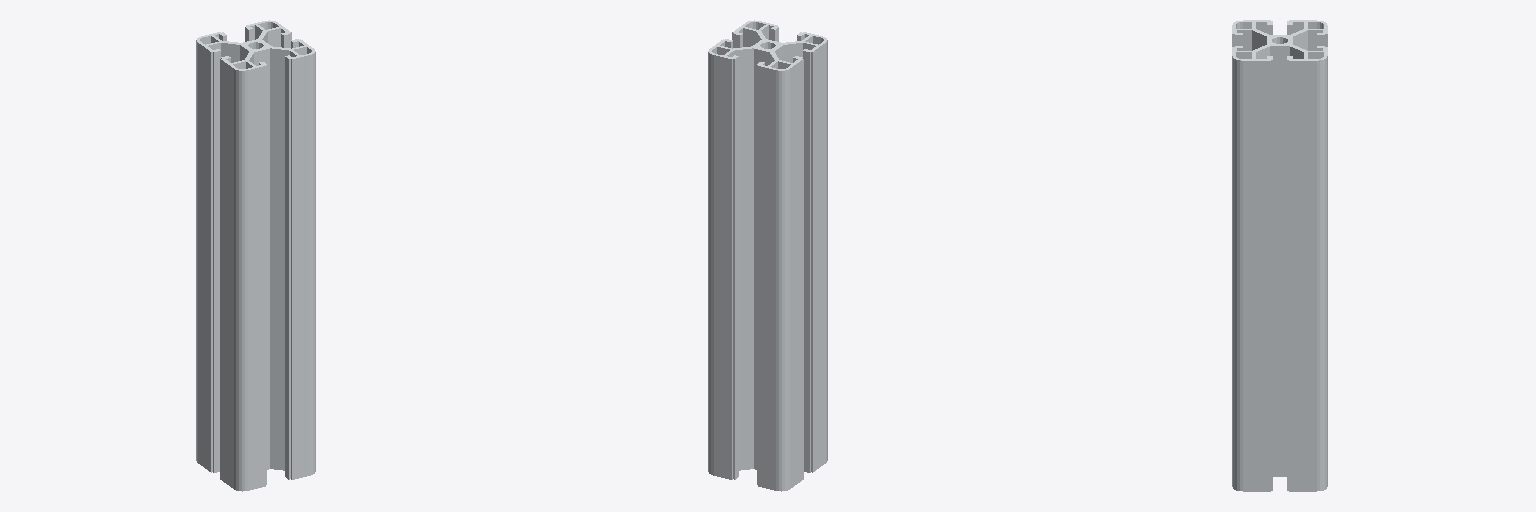
URDF robot description (aluminium):
<?xml version="1.0" encoding="utf-8"?>
<!-- This URDF was automatically created by SolidWorks to URDF Exporter! Originally created by [author] ([email redacted]) 
     Commit Version: 1.6.0-4-g7f85cfe  Build Version: 1.6.7995.38578
     For more information, please see http://wiki.ros.org/sw_urdf_exporter -->
<robot
  name="aluminium">
  <link
    name="aluminium_base_link">
    <inertial>
      <origin
        xyz="6.93889390390723E-18 -3.46944695195361E-18 0.1"
        rpy="0 0 0" />
      <mass
        value="0.252739239169835" />
      <inertia
        ixx="0.000880444836748547"
        ixy="-1.17427335239852E-20"
        ixz="-1.0362530110532E-21"
        iyy="0.000884007661098085"
        iyz="2.02761635868414E-20"
        izz="7.95242367143988E-05" />
    </inertial>
    <visual>
      <origin
        xyz="0 0 0"
        rpy="0 0 0" />
      <geometry>
        <mesh
          filename="package://aluminium/meshes/aluminium_base_link.STL" />
      </geometry>
      <material
        name="">
        <color
          rgba="0.898039215686275 0.917647058823529 0.929411764705882 1" />
      </material>
    </visual>
    <collision>
      <origin
        xyz="0 0 0"
        rpy="0 0 0" />
      <geometry>
        <mesh
          filename="package://aluminium/meshes/aluminium_base_link.STL" />
      </geometry>
    </collision>
  </link>
</robot>

--- What the picture shows (computed from the rendered views, not written in the file) ---
The picture shows the robot from 3 angles, left to right: view 1: azimuth 30°, elevation 25°; view 2: azimuth 150°, elevation 25°; view 3: azimuth 270°, elevation 25°; orthographic projection.
Robot: aluminium — 1 links, 0 joints (none); root link aluminium_base_link; default pose: every joint at zero.
Links seen in each view (by area): view 1: aluminium_base_link; view 2: aluminium_base_link; view 3: aluminium_base_link.
Boxes of the visible links, left/top/right/bottom form: aluminium_base_link: left=196, top=20, right=315, bottom=491; aluminium_base_link: left=708, top=20, right=827, bottom=491; aluminium_base_link: left=1232, top=20, right=1327, bottom=491.
Size in the robot's own frame: 0.04 by 0.04 by 0.2 metres.
Meshes: 1 distinct files referenced, 1 mesh visuals loaded (1 binary STL).
